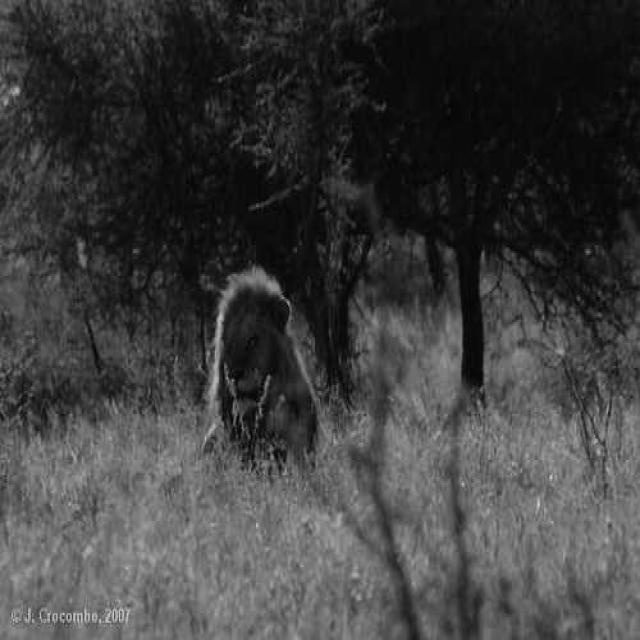Lion: (214, 215, 338, 465)
